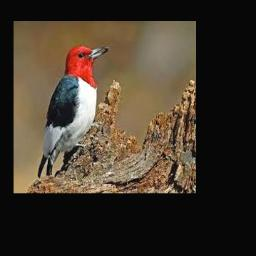Woodpecker: (37, 45, 108, 179)
